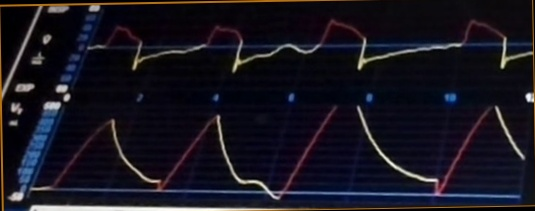Ineffective_effort Flow: (88, 16, 533, 80)
Ineffective_effort Volume: (38, 105, 524, 206)
